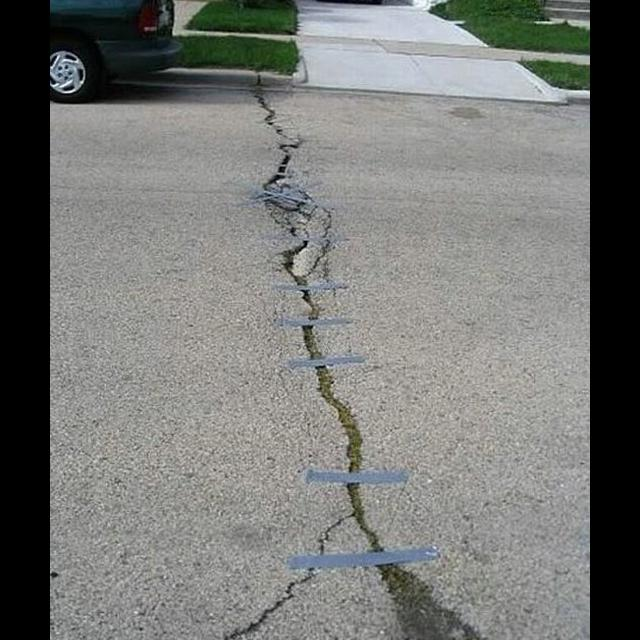retak_memanjang: (213, 88, 422, 640)
